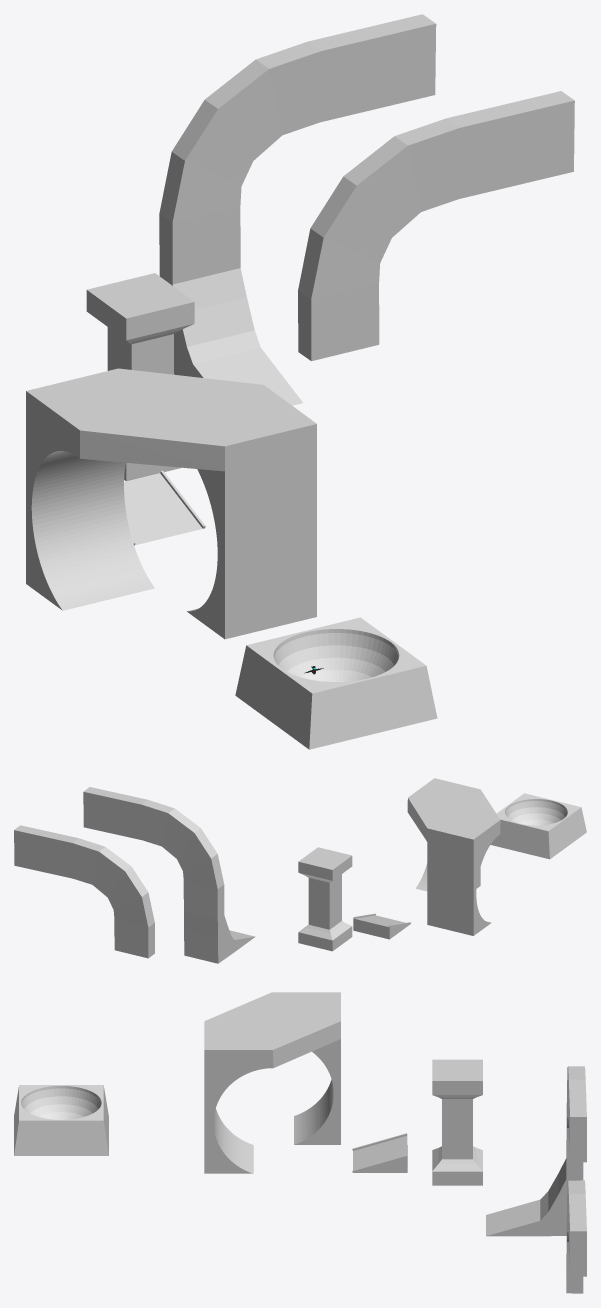
The model's file is HubworldProps.fbx.
3 views of the same model, one above another, from view 1: azimuth 30°, elevation 25°; view 2: azimuth 150°, elevation 25°; view 3: azimuth 270°, elevation 25° (orthographic). The views are drawn at different scales.
Visible parts, largest first — view 1: Loop, HalfThing, Wall, Pool, Pillar, Ramp; view 2: HalfThing, Loop, Wall, Pool, Pillar, Ramp; view 3: Loop, Pool, Pillar, HalfThing, Wall, Ramp.
Boxes of the visible parts, x1=… form: Loop: x1=26, y1=368, x2=316, y2=639; HalfThing: x1=159, y1=14, x2=436, y2=405; Wall: x1=298, y1=91, x2=574, y2=361; Pool: x1=235, y1=617, x2=437, y2=749; Pillar: x1=86, y1=273, x2=194, y2=481; Ramp: x1=124, y1=470, x2=205, y2=545; HalfThing: x1=83, y1=787, x2=255, y2=963; Loop: x1=407, y1=778, x2=500, y2=935; Wall: x1=14, y1=825, x2=154, y2=958; Pool: x1=490, y1=793, x2=586, y2=859; Pillar: x1=298, y1=847, x2=352, y2=951; Ramp: x1=353, y1=913, x2=410, y2=939; Loop: x1=204, y1=992, x2=340, y2=1173; Pool: x1=14, y1=1085, x2=108, y2=1155; Pillar: x1=432, y1=1059, x2=482, y2=1185; HalfThing: x1=486, y1=1066, x2=586, y2=1236; Wall: x1=566, y1=1180, x2=586, y2=1293; Ramp: x1=352, y1=1133, x2=407, y2=1172.
Size of the model in its own units: 31369 by 12620 by 33383.
